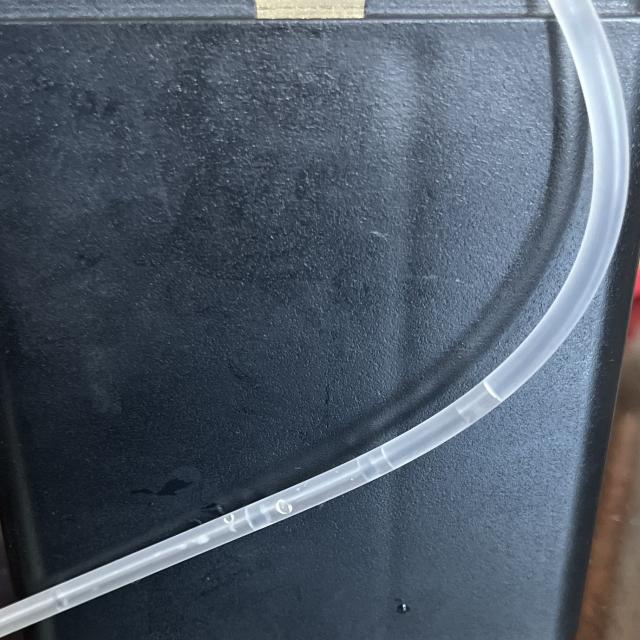bubble: (437, 386, 511, 430), (353, 443, 397, 487), (219, 509, 246, 538), (276, 498, 300, 520)
